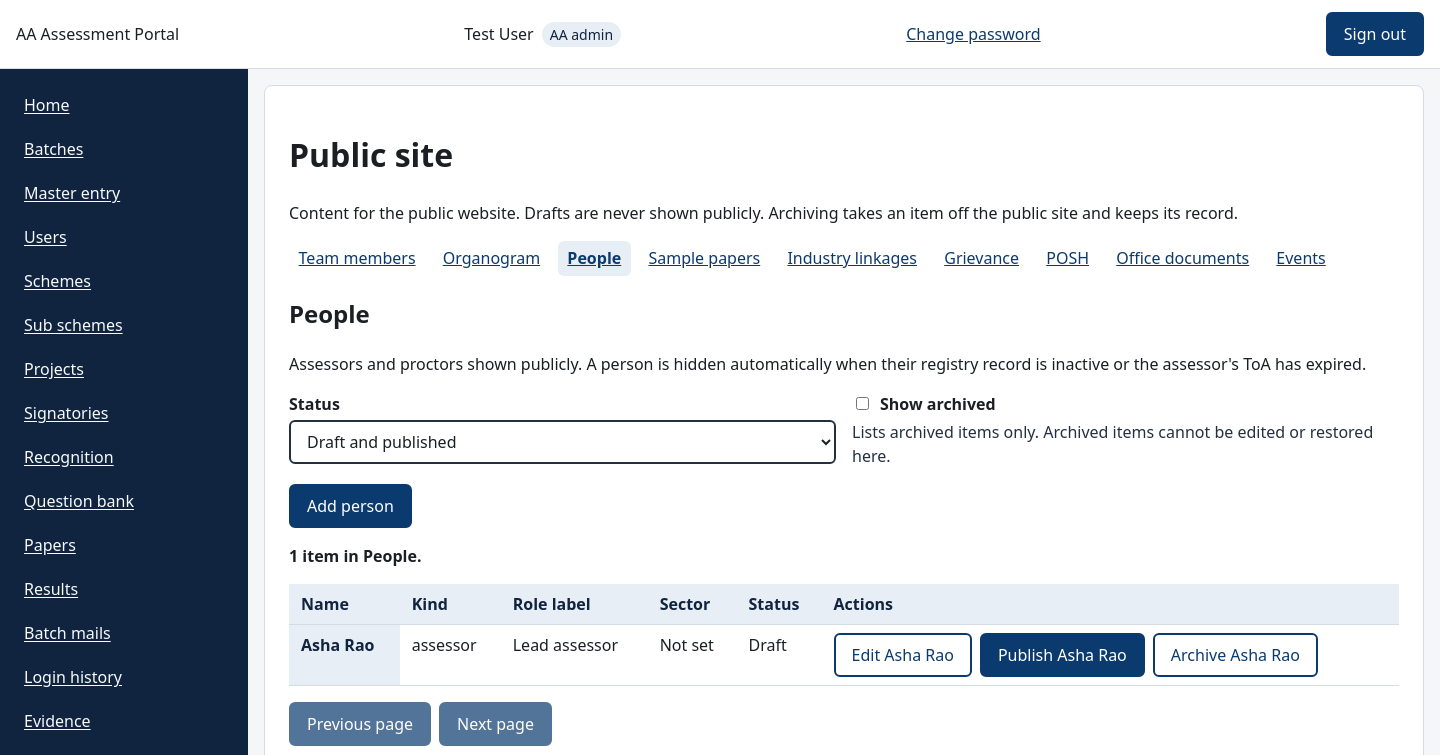
Test: publishes a draft with a PATCH and confirms it
What coordinates should you click on to do the following:
click the button "Publish Asha Rao"
I would click on:
 (1062, 655)
Its box is [980, 633, 1145, 677].
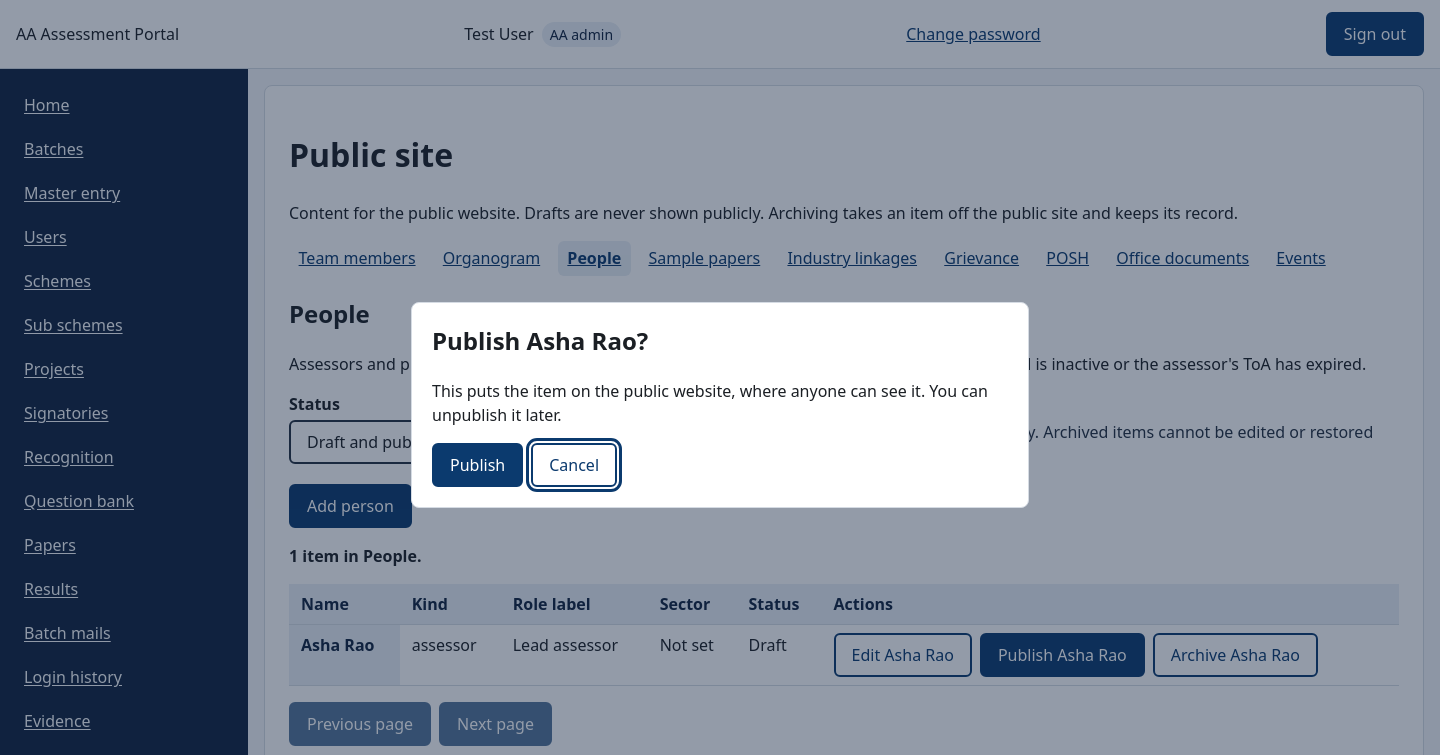
What coordinates should you click on to do the following:
click the button "Publish"
I would click on:
 (478, 465)
Its box is [432, 443, 523, 487].
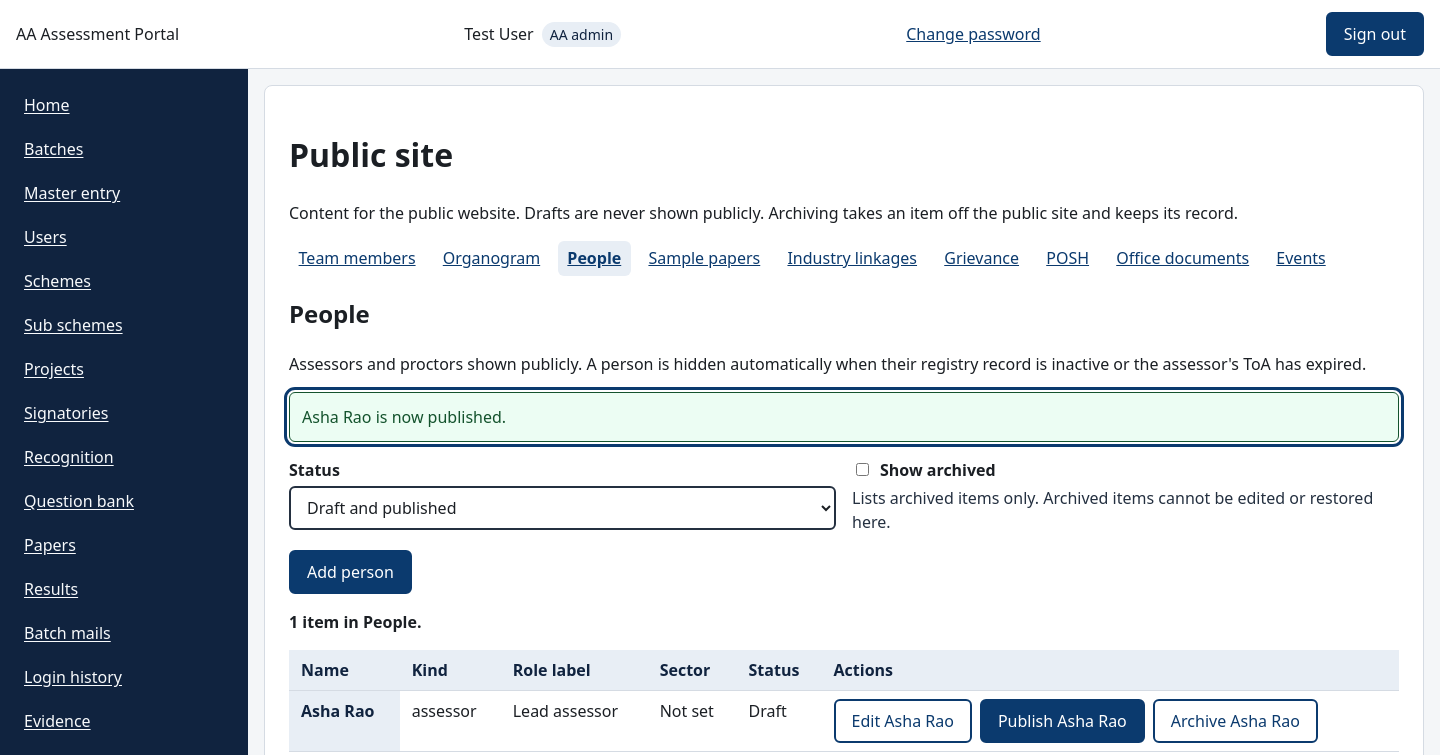
Check: the text "Asha Rao is now published." is shown, box [289, 392, 1399, 442]
